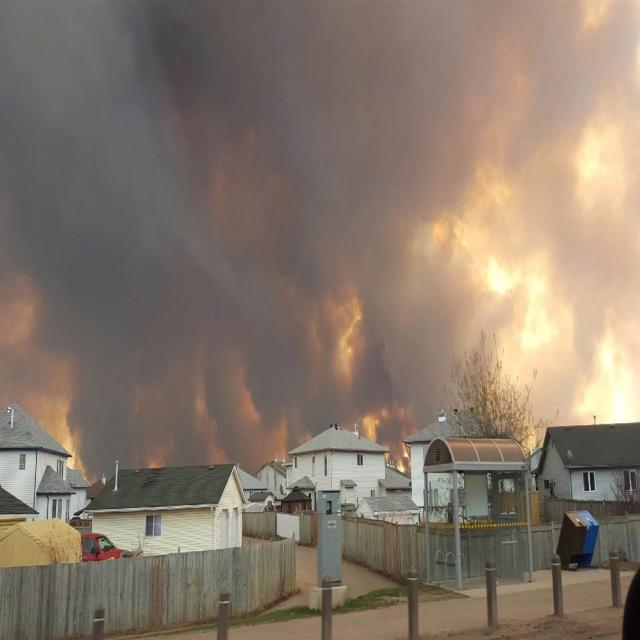Smoke: (0, 0, 637, 453)
